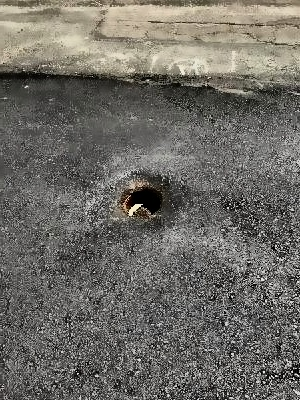pothole: (119, 185, 166, 220)
